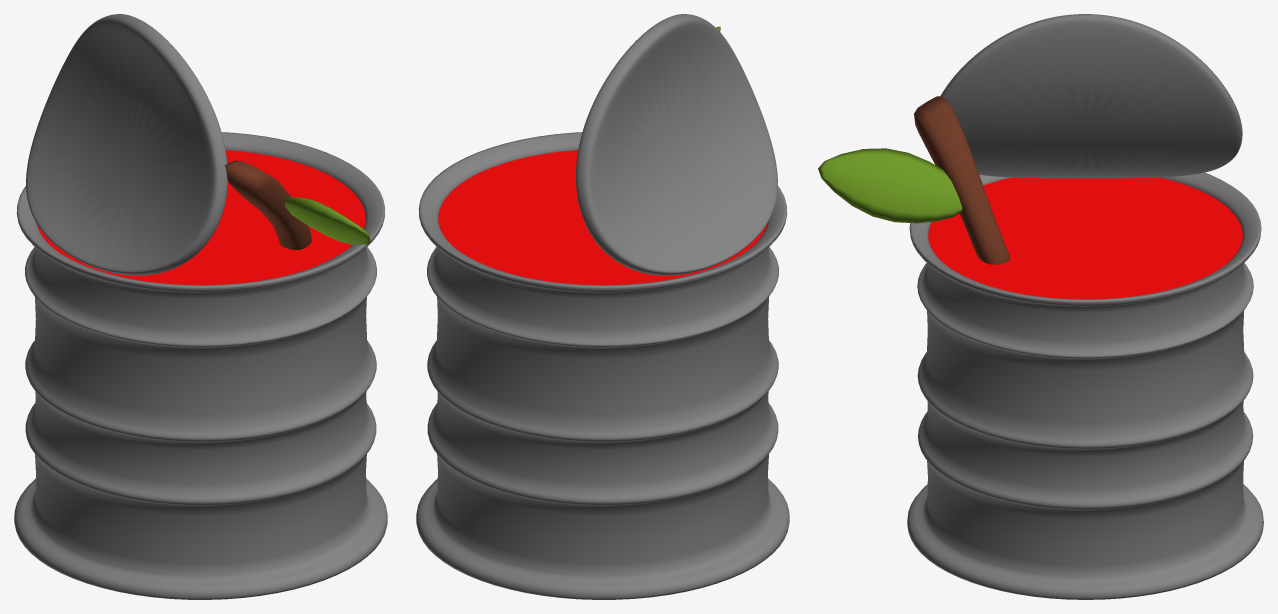
The model's file is apple_can.fbx.
3 renders of one model, left to right at view 1: azimuth 30°, elevation 25°; view 2: azimuth 150°, elevation 25°; view 3: azimuth 270°, elevation 25°, orthographic. The views are drawn at different scales.
Parts seen in each view (by area): view 1: Cylinder, Cylinder.001, Cylinder.002, apple_standart.001; view 2: Cylinder, Cylinder.001, Cylinder.002; view 3: Cylinder, Cylinder.001, Cylinder.002, apple_standart.001.
Part boxes in pixels (box(x1,y1,x2,y2)): Cylinder: box(14, 132, 387, 599); Cylinder.001: box(26, 14, 227, 275); Cylinder.002: box(37, 150, 365, 285); apple_standart.001: box(225, 160, 370, 249); Cylinder: box(416, 132, 789, 599); Cylinder.001: box(576, 14, 777, 275); Cylinder.002: box(438, 150, 766, 285); Cylinder: box(907, 172, 1263, 599); Cylinder.001: box(940, 14, 1242, 178); Cylinder.002: box(928, 177, 1242, 299); apple_standart.001: box(818, 96, 1009, 264).
Bounding box in the file's own units: 35.7 × 53.53 × 44.62.
